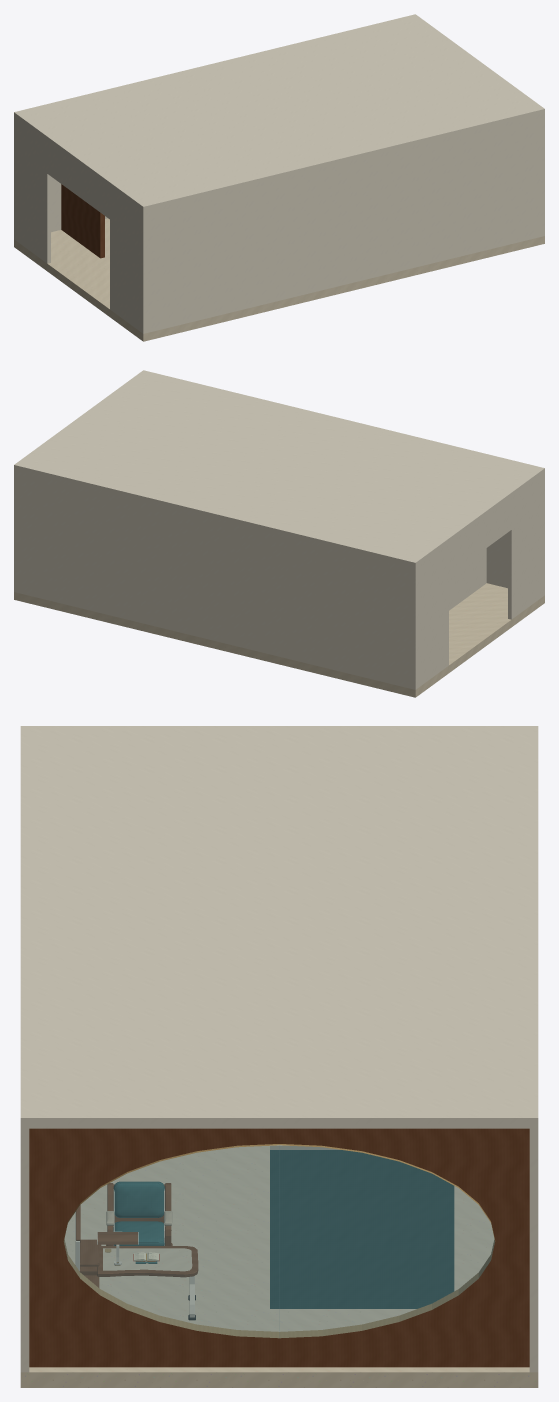
Rendered from StarAtlasSpecialty_133.glb.
3 renders of one model, top to bottom at view 1: azimuth 30°, elevation 25°; view 2: azimuth 150°, elevation 25°; view 3: azimuth 270°, elevation 25°, orthographic. The views are drawn at different scales.
Visible parts, largest first — view 1: SA133_Ceiling, SA133_SouthSide, SA133_RoomFloor, SA133_EntryShoulderNorth, SA133_EntryShoulderSouth, SA133_EntryHeader, SA133_EntryPrivacyDogleg, SA133_NorthSide; view 2: SA133_Ceiling, SA133_NorthSide, SA133_RoomFloor, SA133_EntryShoulderSouth, SA133_EntryShoulderNorth, SA133_EntryHeader, SA133_WashEntrySide, SA133_SouthSide; view 3: SA133_Ceiling, SA133_OvalAtriumGlass, SA133_OvalWindowReveal, SA133_RoomFloor, SA133_Cocoon_RearLiner, SA133_OvalDepthReturn, SA133_NorthSide, SA133_SouthSide, SA133_DayReadingChair__DAY_CHAIR_single_reclined_back_cushio, SA133_LibraryStudyEdge__SINGLE_inset_stone_writing_surface, SA133_LibraryStudyEdge__SINGLE_carved_walnut_writing_edge, SA133_DayReadingChair__DAY_CHAIR_single_crowned_seat (+1 smaller).
Part boxes in pixels (box(x1,y1,x2,y2)): SA133_Ceiling: box(14, 14, 544, 211); SA133_SouthSide: box(141, 114, 544, 333); SA133_RoomFloor: box(14, 218, 544, 341); SA133_EntryShoulderNorth: box(16, 119, 50, 263); SA133_EntryShoulderSouth: box(110, 188, 141, 331); SA133_EntryHeader: box(46, 142, 110, 219); SA133_EntryPrivacyDogleg: box(61, 184, 104, 258); SA133_NorthSide: box(14, 117, 107, 240); SA133_Ceiling: box(14, 370, 544, 567); SA133_NorthSide: box(14, 470, 417, 689); SA133_RoomFloor: box(14, 583, 544, 697); SA133_EntryShoulderSouth: box(508, 475, 542, 619); SA133_EntryShoulderNorth: box(417, 544, 448, 687); SA133_EntryHeader: box(448, 498, 511, 575); SA133_WashEntrySide: box(449, 548, 486, 610); SA133_SouthSide: box(486, 473, 544, 596); SA133_Ceiling: box(20, 726, 538, 1128); SA133_OvalAtriumGlass: box(64, 1145, 494, 1338); SA133_OvalWindowReveal: box(29, 1128, 529, 1367); SA133_RoomFloor: box(20, 1146, 538, 1387); SA133_Cocoon_RearLiner: box(274, 1150, 449, 1308); SA133_OvalDepthReturn: box(63, 1144, 495, 1338); SA133_NorthSide: box(529, 1128, 538, 1372); SA133_SouthSide: box(20, 1128, 29, 1372); SA133_DayReadingChair__DAY_CHAIR_single_reclined_back_cushio: box(113, 1181, 164, 1217); SA133_LibraryStudyEdge__SINGLE_inset_stone_writing_surface: box(103, 1248, 192, 1271); SA133_LibraryStudyEdge__SINGLE_carved_walnut_writing_edge: box(97, 1246, 198, 1277); SA133_DayReadingChair__DAY_CHAIR_single_crowned_seat: box(113, 1221, 164, 1245).
Size of the model in its own units: 12.9 by 4.14 by 7.2.
Materials: 58 (43 with a texture image).
